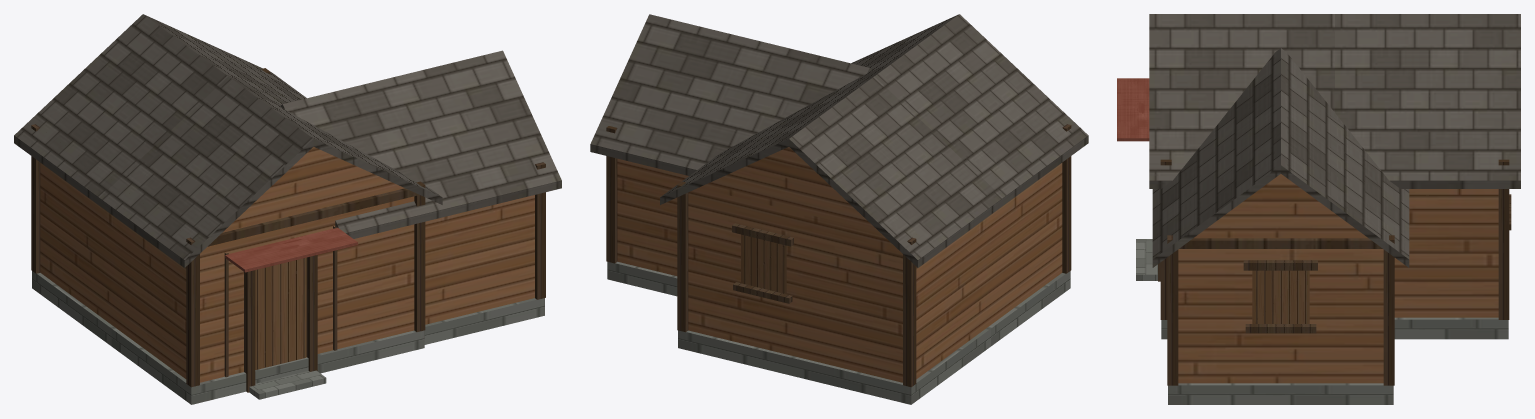
Rendered from ae_sand_wood_medium_l_lod0.glb.
The picture shows the model from 3 angles, left to right: view 1: azimuth 30°, elevation 25°; view 2: azimuth 150°, elevation 25°; view 3: azimuth 270°, elevation 25°; orthographic projection. The views are drawn at different scales.
Parts seen in each view (by area): view 1: ae_sand_wood_medium_l_lod0; view 2: ae_sand_wood_medium_l_lod0; view 3: ae_sand_wood_medium_l_lod0.
Part boxes in pixels (left/top/right/bottom): ae_sand_wood_medium_l_lod0: left=14, top=14, right=561, bottom=404; ae_sand_wood_medium_l_lod0: left=590, top=14, right=1088, bottom=404; ae_sand_wood_medium_l_lod0: left=1117, top=14, right=1520, bottom=404.
Bounding box in the file's own units: 7.05 × 4.3 × 5.98.
1 material, 1 textured.
